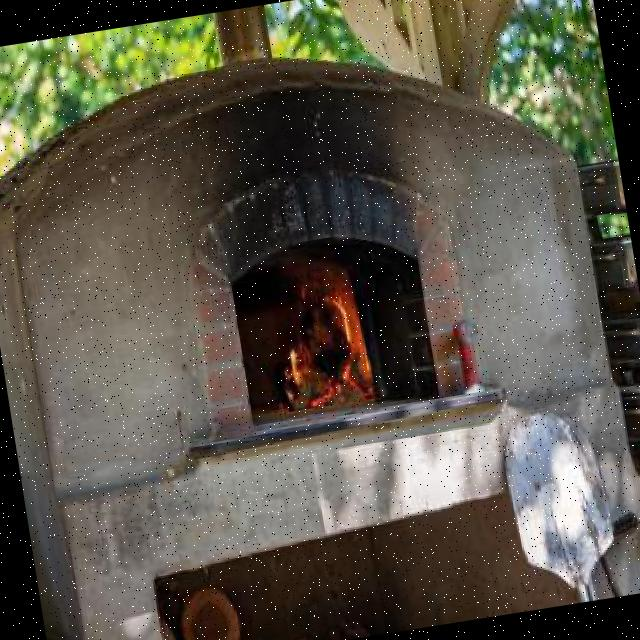fire: (265, 243, 394, 412)
